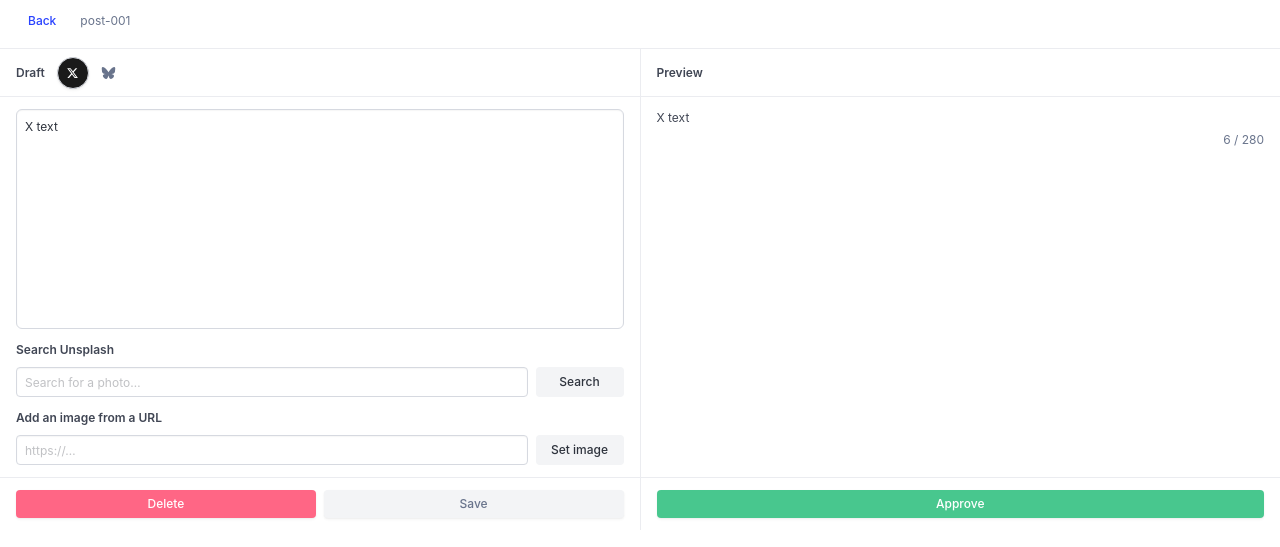
EditPostView — platform tab switching › loads sibling platform text after switching tabs
Click the tab named "bluesky". click: (109, 72)
box: [93,56,125,88]
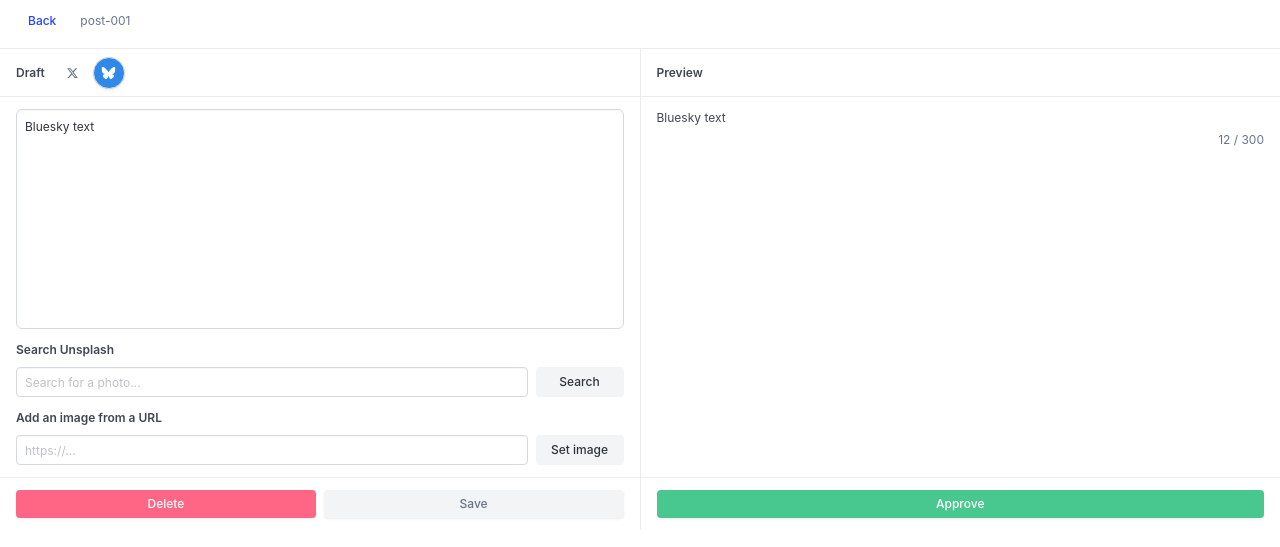
Expected: the text box named "post content" holds "Bluesky text", [16,109,624,329]
